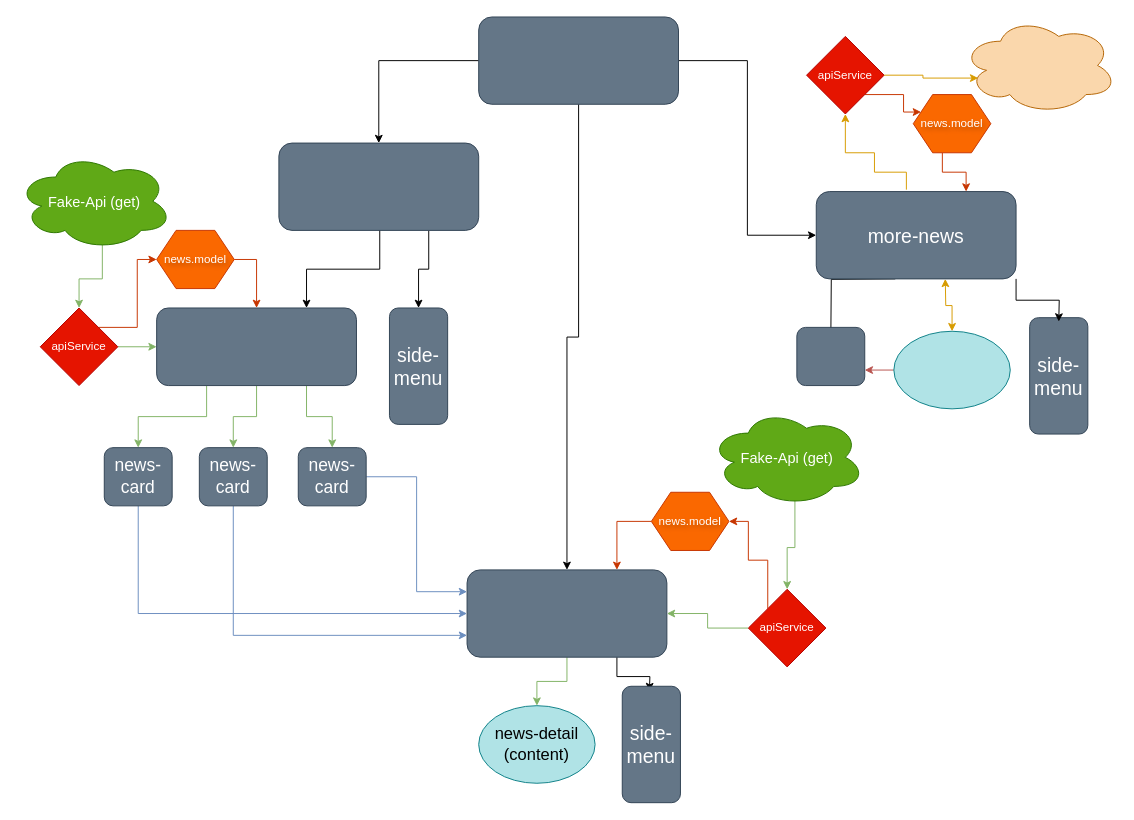
Image size: 1134x820. Some labels were removed from this diagram. Each missing label, with the centre of its shape:
"App-component" belongs at point (578, 60).
"Fake-Api (post)" belongs at point (1039, 65).
"more-news (content)" belongs at point (951, 369).
"news-card-container" belongs at point (256, 346).
"news-detail" belongs at point (566, 613).
"news-page" belongs at point (378, 186).
"news-preview" belongs at point (830, 356).
